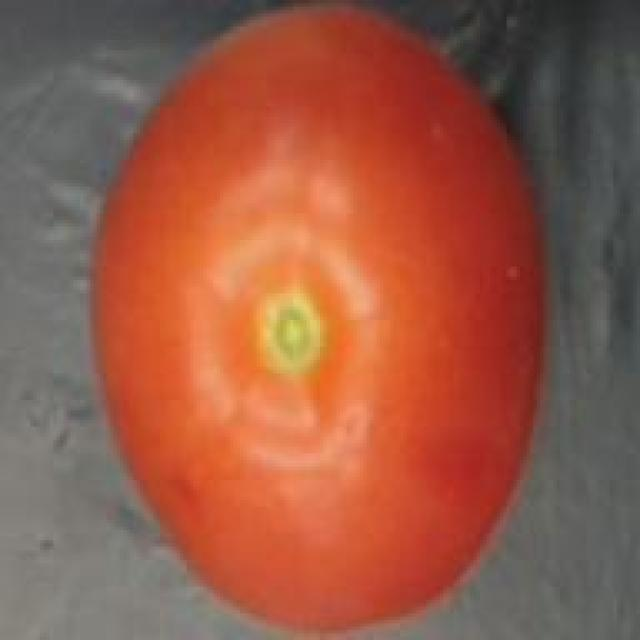ripe tomato: (77, 0, 560, 637)
